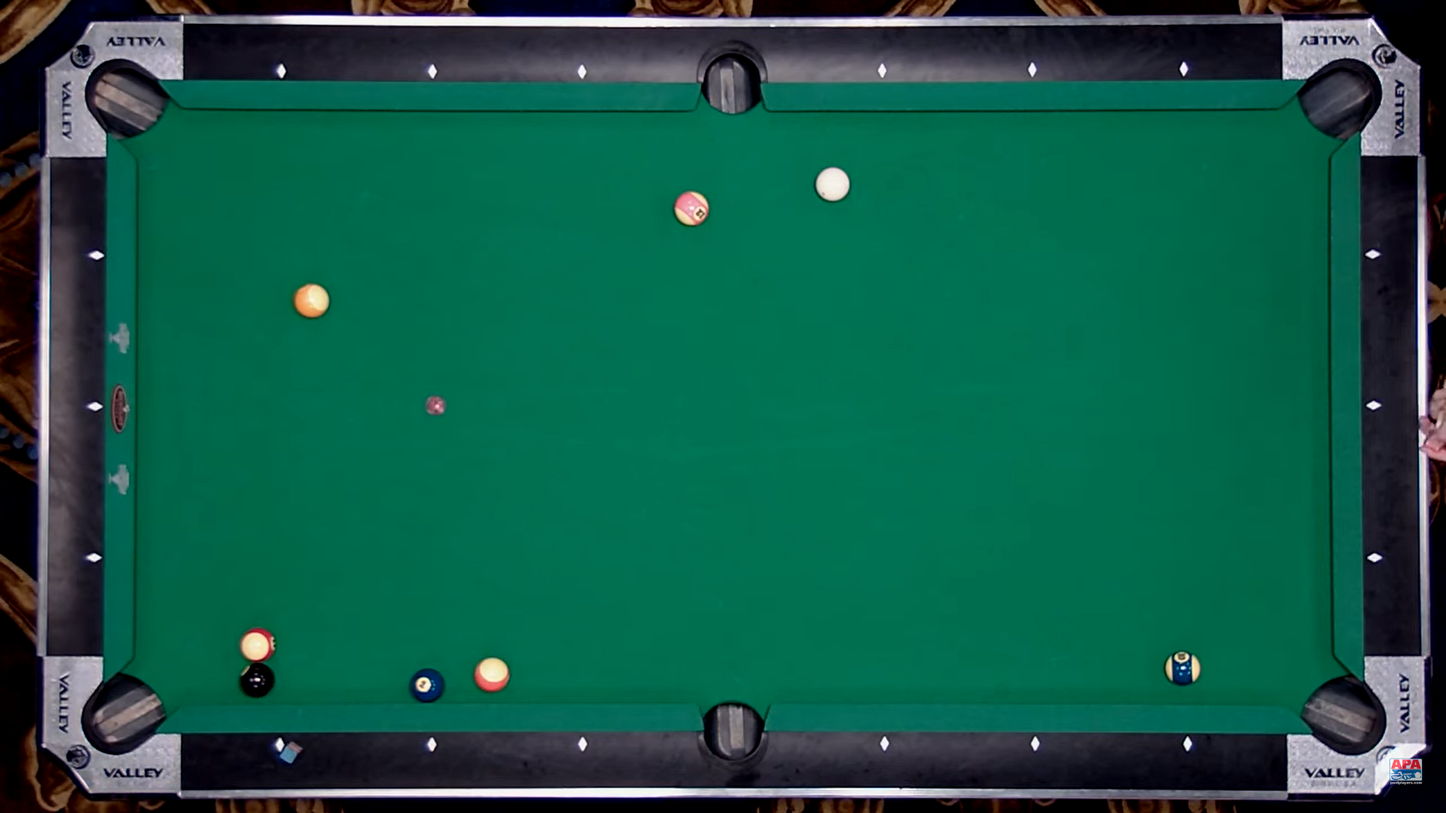Black: (240, 663, 274, 697)
Cue: (815, 167, 850, 202)
Dot: (276, 65, 287, 76), (1368, 400, 1379, 411), (1181, 740, 1192, 751), (877, 738, 888, 749), (90, 401, 101, 411), (92, 250, 102, 261), (427, 66, 438, 76), (577, 66, 587, 77), (1027, 64, 1037, 75), (1179, 64, 1189, 75), (1370, 553, 1380, 564), (1028, 739, 1039, 749), (576, 739, 586, 750), (426, 739, 436, 750), (273, 740, 284, 750), (90, 553, 100, 563), (877, 65, 887, 75), (1368, 250, 1378, 260)
Solid: (411, 668, 445, 703)
Striped: (1165, 651, 1202, 687), (294, 283, 330, 318), (240, 627, 276, 661), (475, 657, 510, 691), (675, 191, 709, 225)
